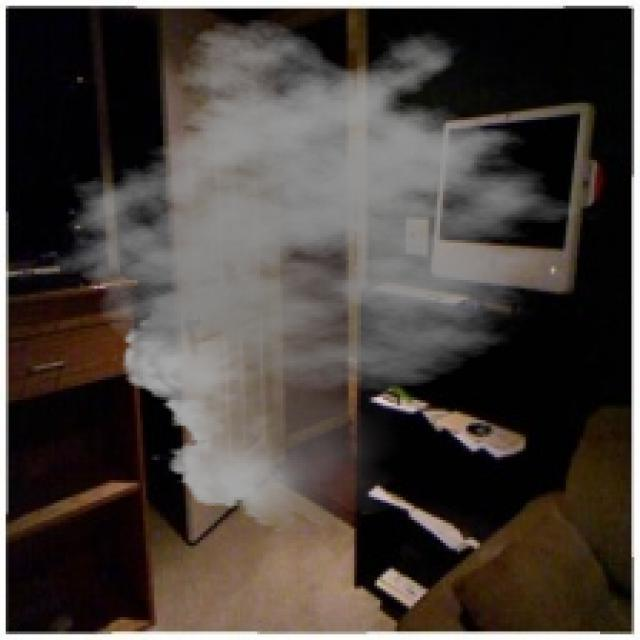Smoke: (51, 17, 608, 534)
